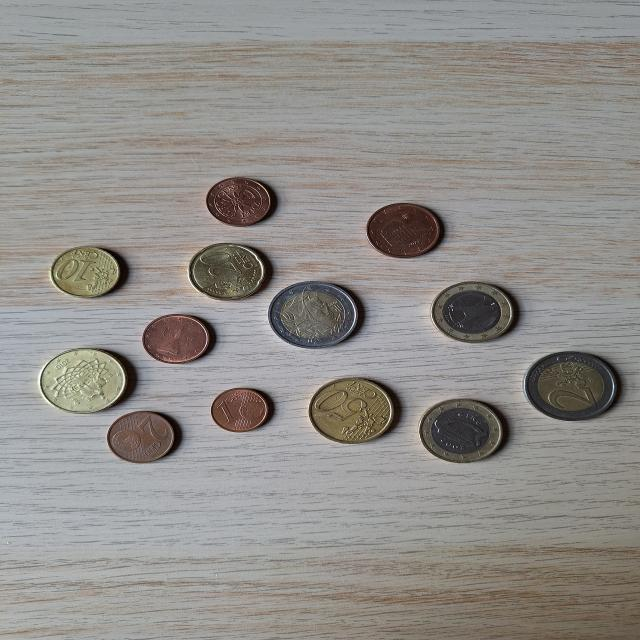10c: (51, 245, 125, 299)
1c: (204, 174, 276, 227), (210, 387, 273, 432)
1e: (420, 398, 506, 462), (432, 280, 519, 342)
20c: (188, 241, 270, 300)
2c: (108, 410, 180, 463), (142, 314, 214, 364)
2e: (524, 351, 620, 421), (268, 280, 359, 348)
50c: (37, 347, 129, 414), (308, 376, 398, 443)
